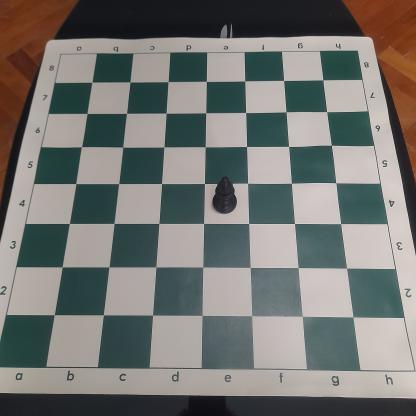black-bishop: (211, 176, 239, 214)
